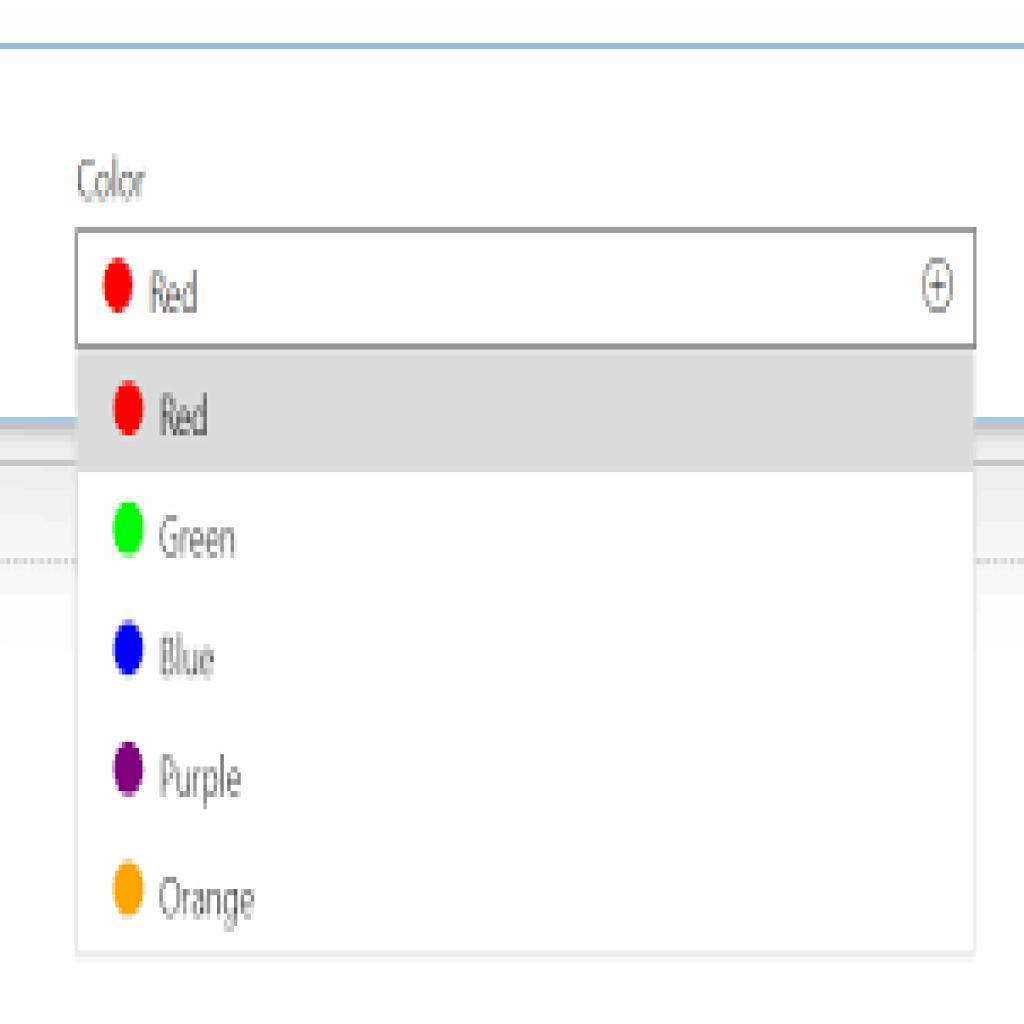dropdown: (81, 230, 976, 347)
label: (154, 871, 267, 933), (155, 751, 249, 811), (151, 507, 238, 569), (155, 387, 222, 449), (160, 628, 219, 688)
